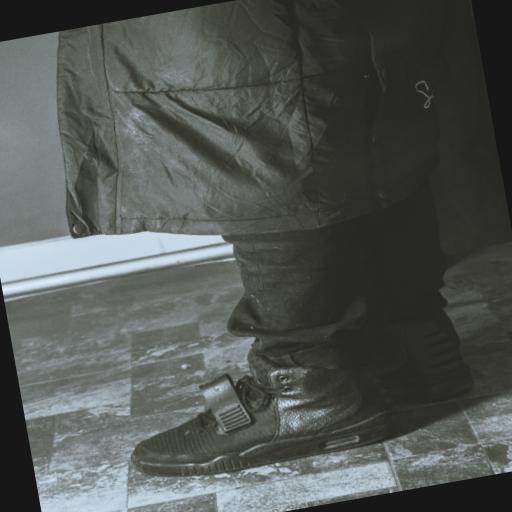shoe: (130, 351, 395, 476), (378, 311, 472, 402)
